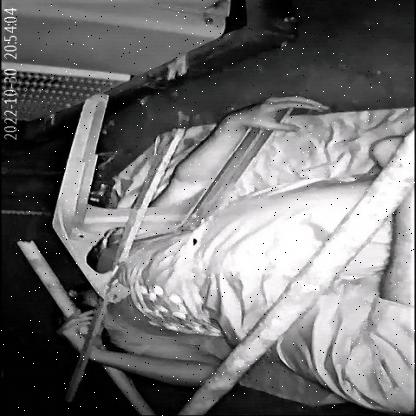hand: (148, 84, 333, 208), (48, 305, 208, 386)
